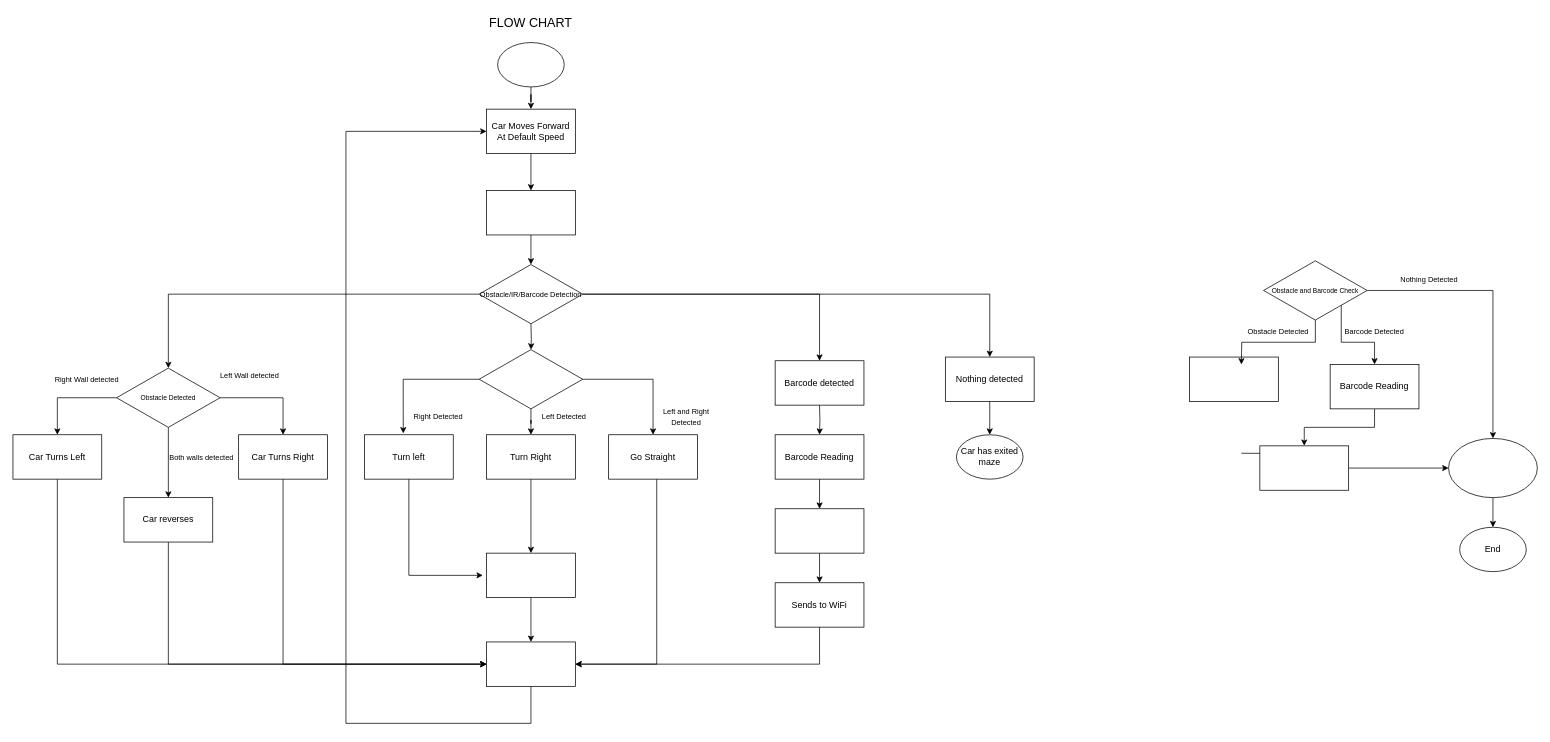
Image size: 1550x742. Some labels were removed from this diagram. The shapes that lost their labels are listed below. From the top down, each one's box as (x1, y1, x2, y2) in pixels, then its label:
(497, 42, 564, 87): Start Car
(486, 190, 575, 235): PID Regulates Speed by correcting error
(478, 349, 583, 409): IR Sensor Detection
(1189, 356, 1278, 401): Turn Left/Right
(1259, 445, 1349, 490): Regulate Speed and Steering of Direction
(1448, 438, 1537, 498): Continue Navigating
(774, 508, 864, 553): Decode Barcode
(486, 552, 575, 598): Ensure Car turns 90 degrees
(486, 641, 575, 686): Continue Navigation
